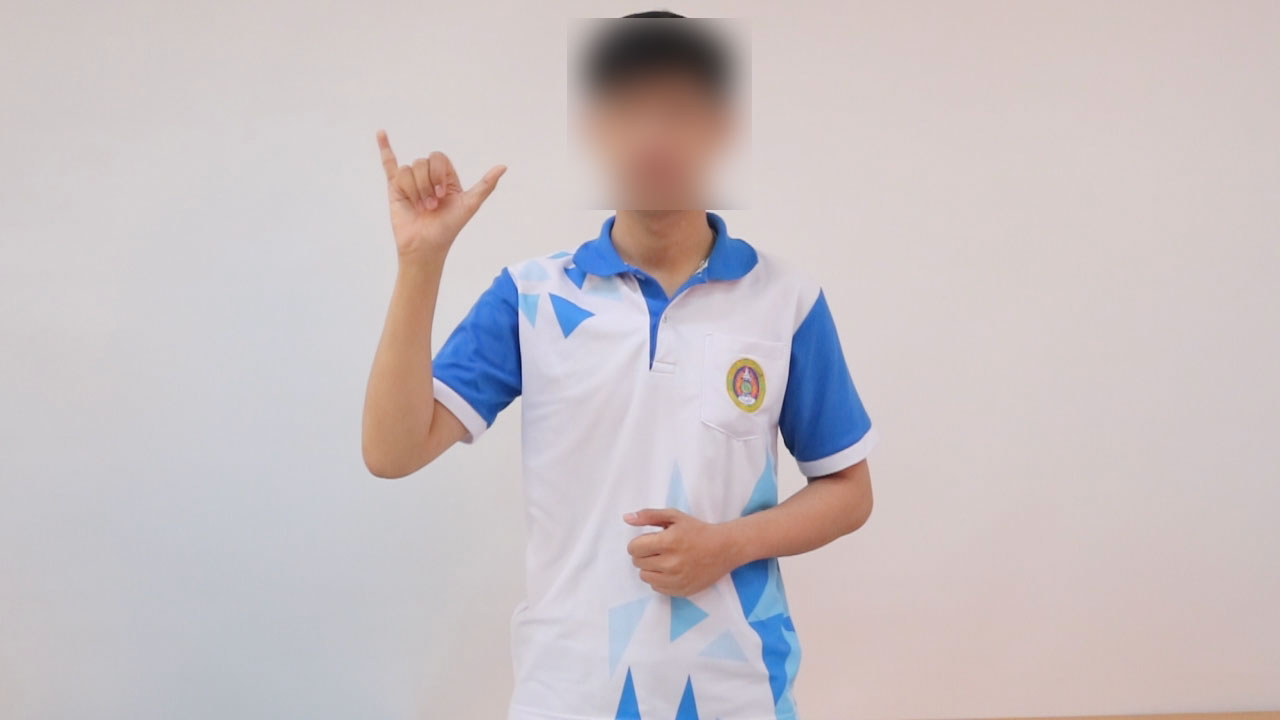yor: (367, 123, 513, 263)
